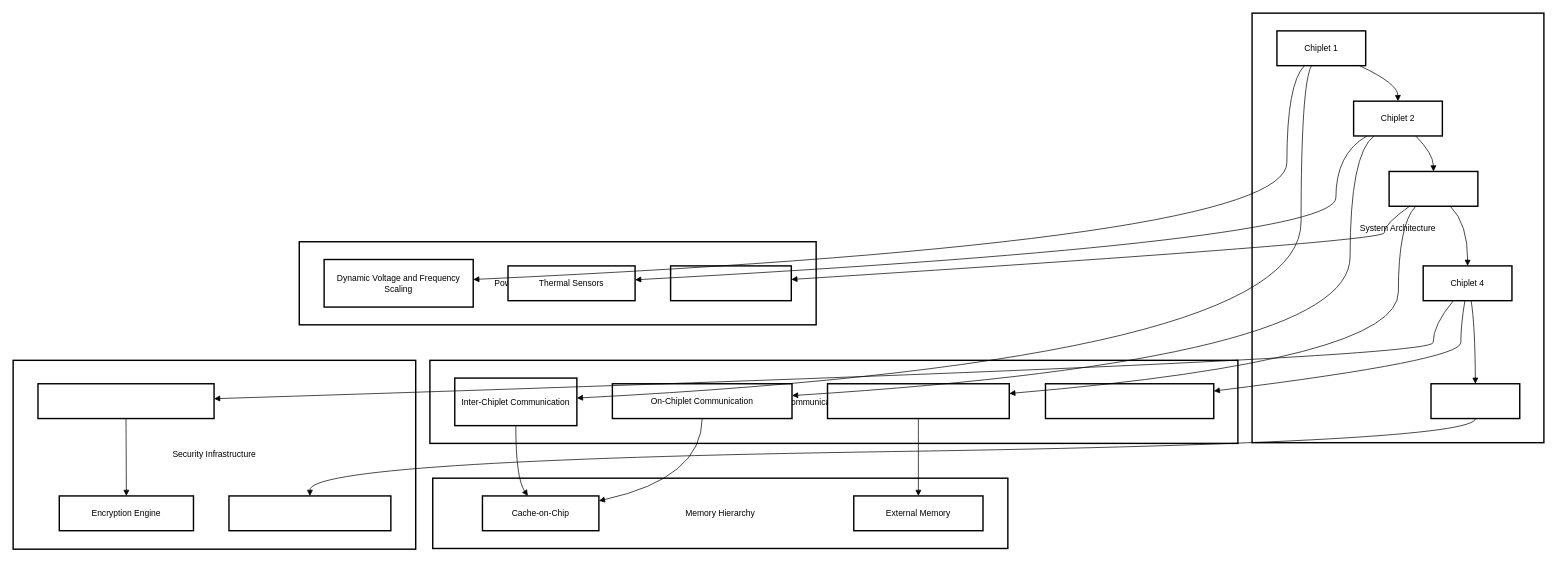
The diagram is 1556 pixels wide and 562 high, and some of its shapes have lost their labels. The box of each missing label's shape, as (x1, y1, x2, y2) in pixels:
Chiplet 3: (1388, 170, 1478, 207)
Chiplet 5: (1430, 383, 1520, 419)
Hardware Security Module: (37, 383, 214, 419)
Heat Spreaders: (670, 265, 792, 301)
Off-Chiplet Communication: (826, 383, 1010, 419)
Secure Boot Mechanism: (228, 495, 391, 531)
Wireless Communication: (1044, 383, 1214, 419)
